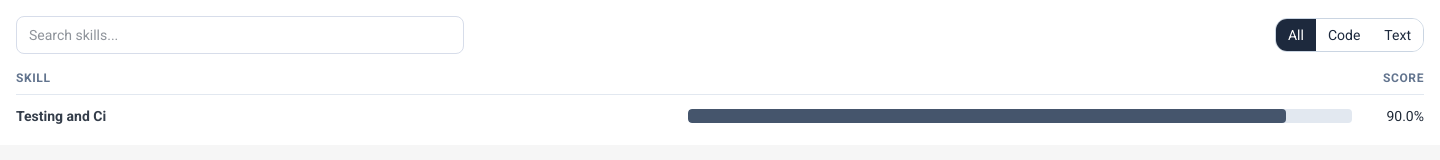
it: SkillsOverview › shows empty message but keeps toolbar when filtering to type with no skills
The width and height of the screenshot is (1440, 160).
Click the button "Text" at (1398, 35), box [1372, 19, 1423, 51]
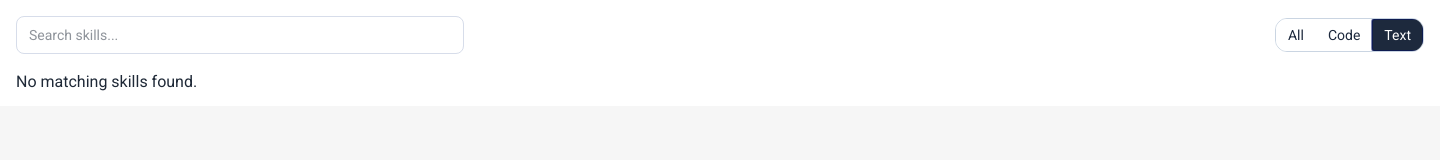
Expected: the button "All" is shown, [1276, 19, 1316, 51]
Expected: the text "No matching skills found." is shown, [16, 72, 197, 91]
